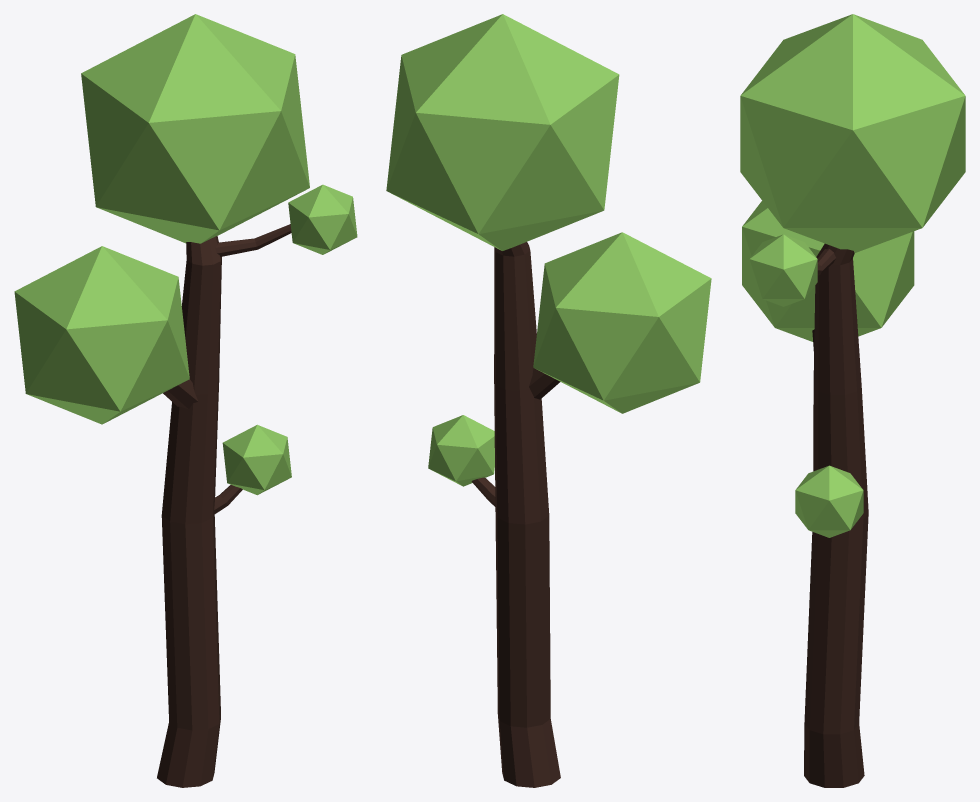
The model's file is Tree_Green_vc.fbx.
The picture shows the model from 3 angles, left to right: view 1: azimuth 30°, elevation 25°; view 2: azimuth 150°, elevation 25°; view 3: azimuth 270°, elevation 25°; orthographic projection. The views are drawn at different scales.
Visible parts, largest first — view 1: Tree_Green_vc; view 2: Tree_Green_vc; view 3: Tree_Green_vc.
Boxes of the visible parts, x1=… form: Tree_Green_vc: x1=14, y1=14, x2=357, y2=787; Tree_Green_vc: x1=386, y1=14, x2=711, y2=787; Tree_Green_vc: x1=740, y1=14, x2=965, y2=787.
Size of the model in its own units: 590 by 1383 by 366.
